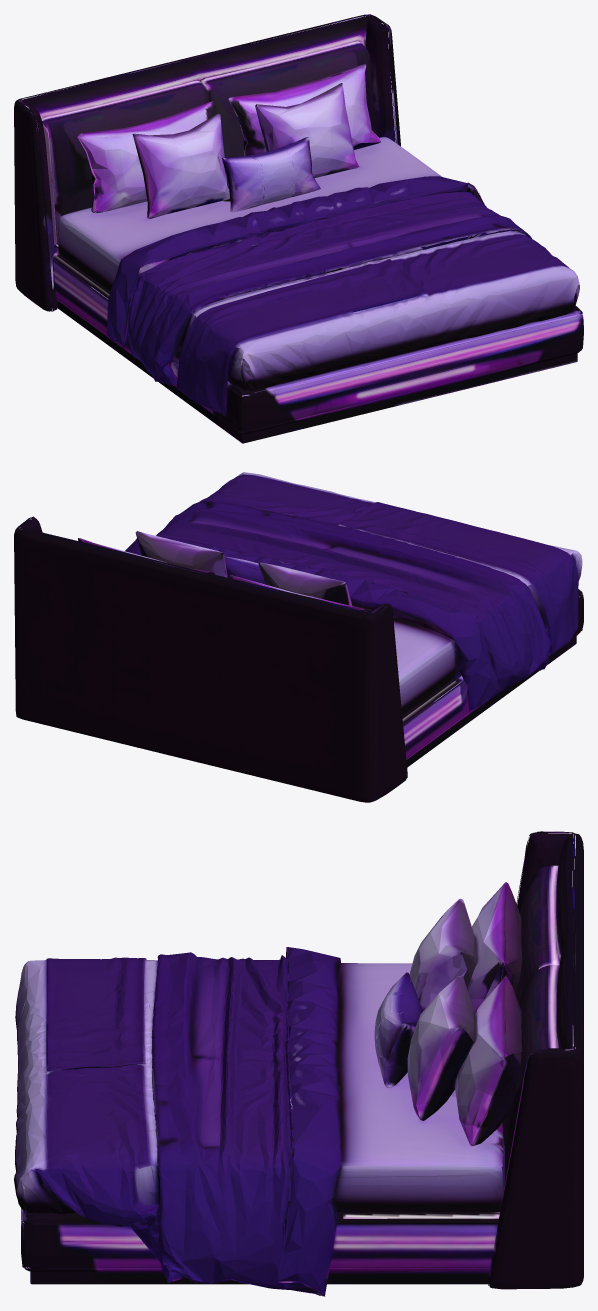
The model's file is edited_mesh.glb.
3 renders of one model, top to bottom at view 1: azimuth 30°, elevation 25°; view 2: azimuth 150°, elevation 25°; view 3: azimuth 270°, elevation 25°, orthographic. The views are drawn at different scales.
Parts seen in each view (by area): view 1: solid_001_wire; view 2: solid_001_wire; view 3: solid_001_wire.
Part boxes in pixels (box(x1,y1,x2,y2)): solid_001_wire: box(14, 14, 583, 443); solid_001_wire: box(14, 472, 583, 802); solid_001_wire: box(14, 831, 583, 1296).
Size of the model in its own units: 2 by 0.9449 by 1.97.
Materials: 1 (1 with a texture image).
